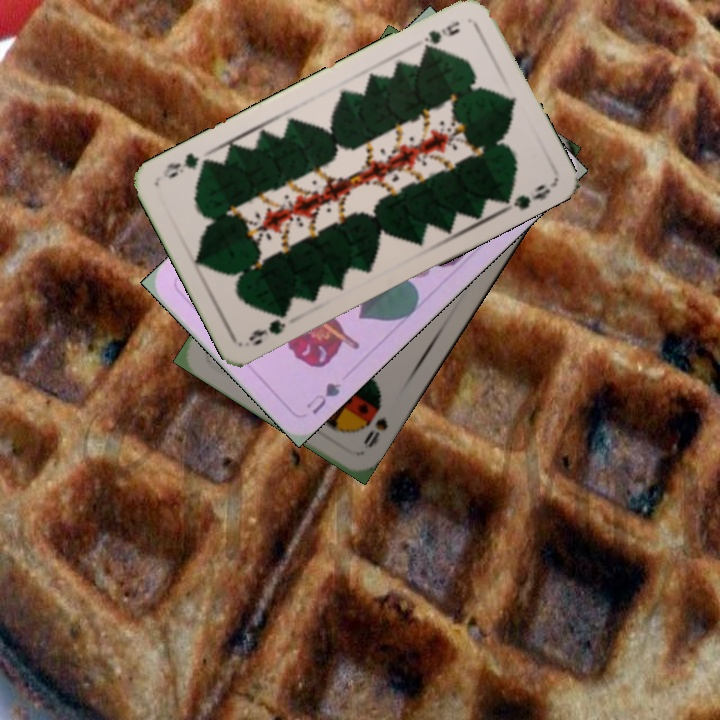G9: (244, 305, 292, 348), (418, 17, 463, 55)
GU: (302, 378, 344, 417)
SO: (359, 412, 391, 451)
